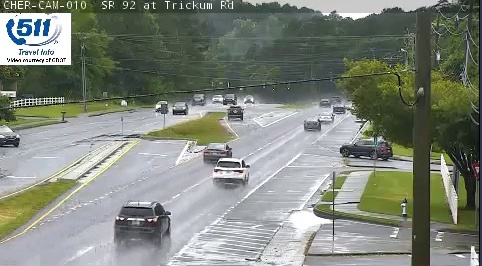car: (114, 201, 170, 239), (213, 157, 248, 181), (203, 142, 231, 161), (303, 117, 321, 131), (226, 106, 243, 119), (318, 110, 333, 123)
